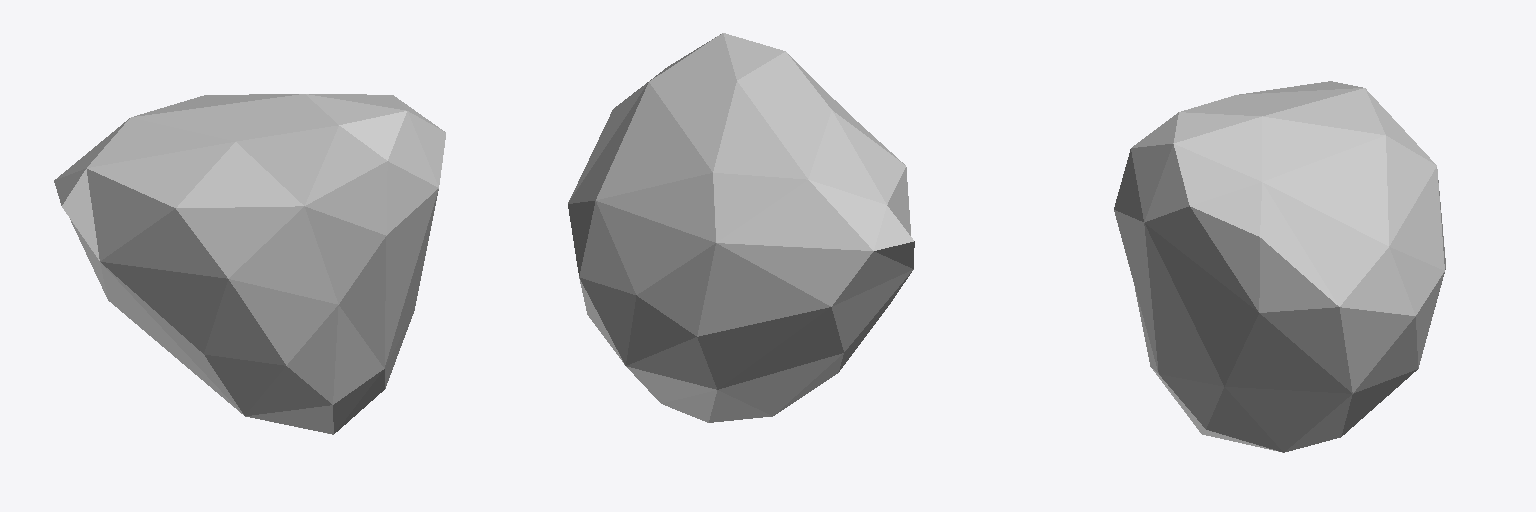
Rendered from Rock_3_A_Color1.obj.
3 views of the same model, side by side, from view 1: azimuth 30°, elevation 25°; view 2: azimuth 150°, elevation 25°; view 3: azimuth 270°, elevation 25° (orthographic).
Visible parts, largest first — view 1: Rock_3_A_Color1; view 2: Rock_3_A_Color1; view 3: Rock_3_A_Color1.
Boxes of the visible parts, box(x1,y1,x2,y2) form: Rock_3_A_Color1: box(54, 94, 445, 434); Rock_3_A_Color1: box(568, 33, 914, 422); Rock_3_A_Color1: box(1114, 81, 1445, 452).
Bounding box in the file's own units: 0.9563 × 0.8589 × 0.8075.